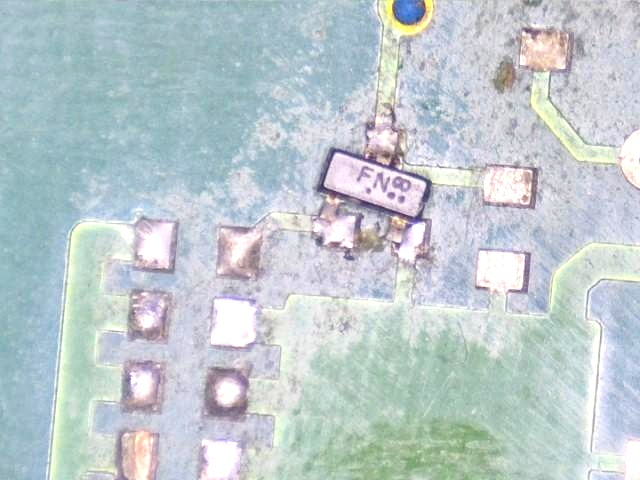pcb_defect: (319, 130, 434, 256)
